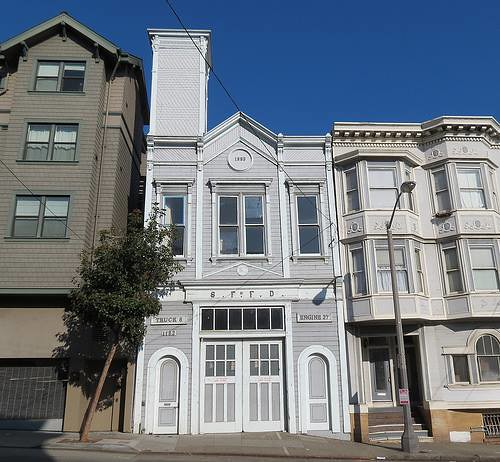building: (145, 53, 500, 424), (1, 28, 138, 423)
sky: (191, 1, 500, 116)
tree: (51, 224, 190, 432)
